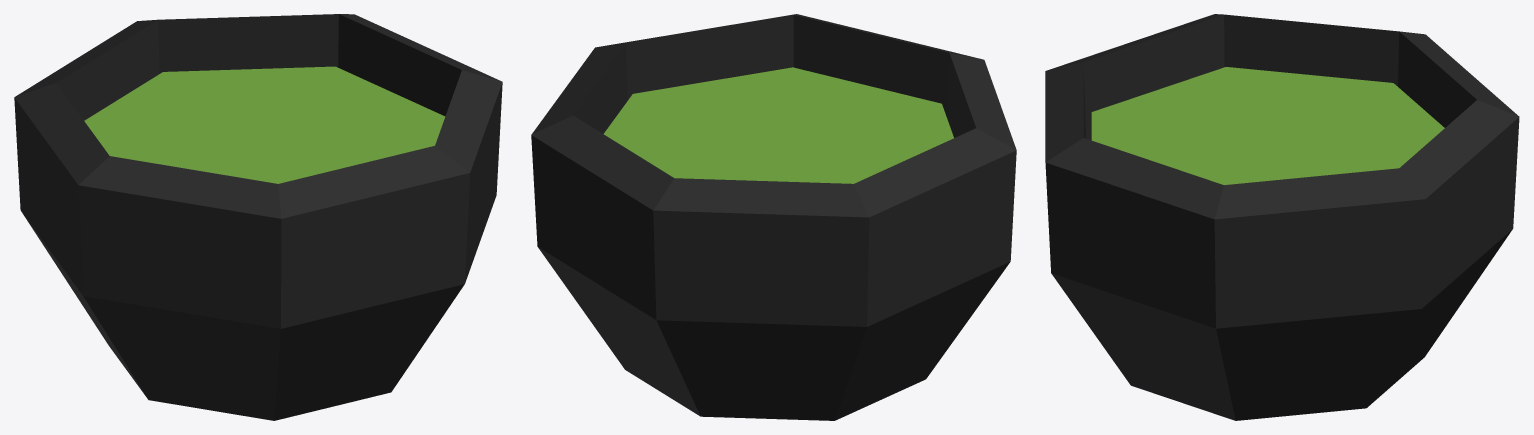
File: food_cup-small-tea.fbx
3 renders of one model, left to right at view 1: azimuth 30°, elevation 25°; view 2: azimuth 150°, elevation 25°; view 3: azimuth 270°, elevation 25°, orthographic.
Parts seen in each view (by area): view 1: food_cup_small_tea; view 2: food_cup_small_tea; view 3: food_cup_small_tea.
Part boxes in pixels (x1,y1,x2,y2): food_cup_small_tea: [14, 14, 502, 420]; food_cup_small_tea: [531, 14, 1016, 420]; food_cup_small_tea: [1045, 14, 1519, 420].
Bounding box in the file's own units: 200 × 126 × 195.
